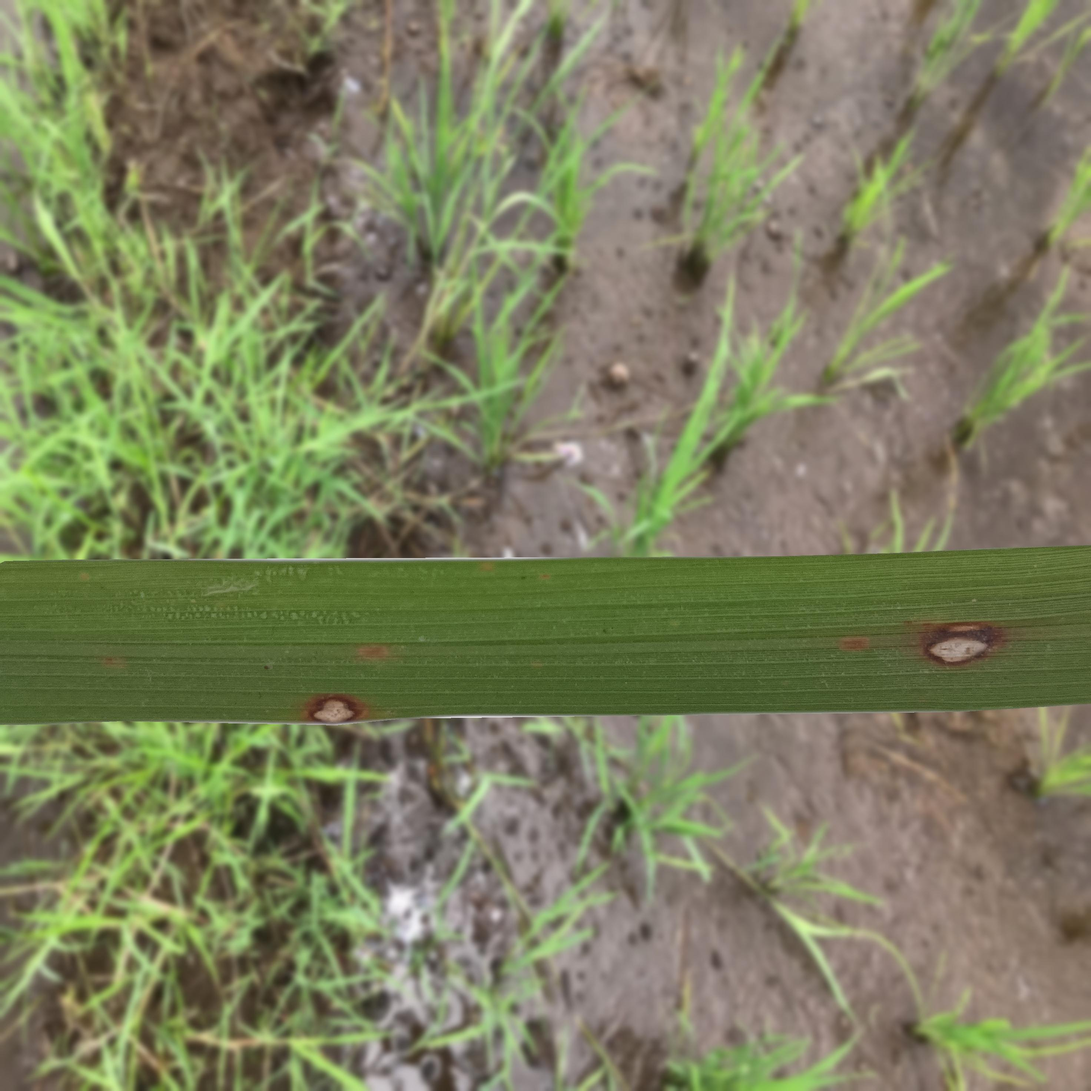LEAF BLAST: (924, 623, 1002, 666), (304, 694, 368, 724)
